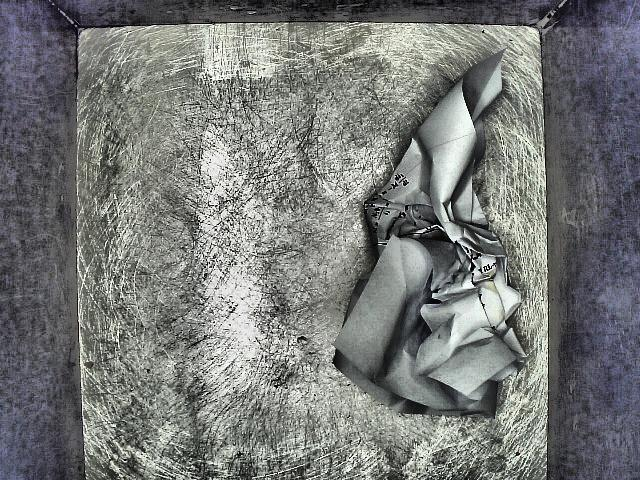Paper: (308, 15, 615, 441)
